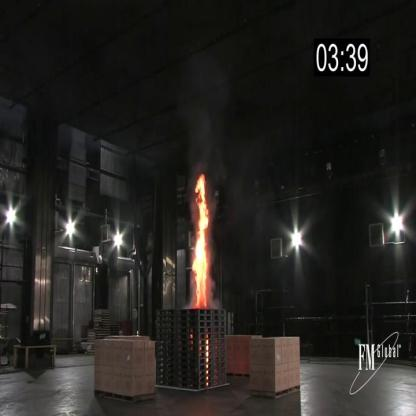fire: (190, 164, 212, 319)
